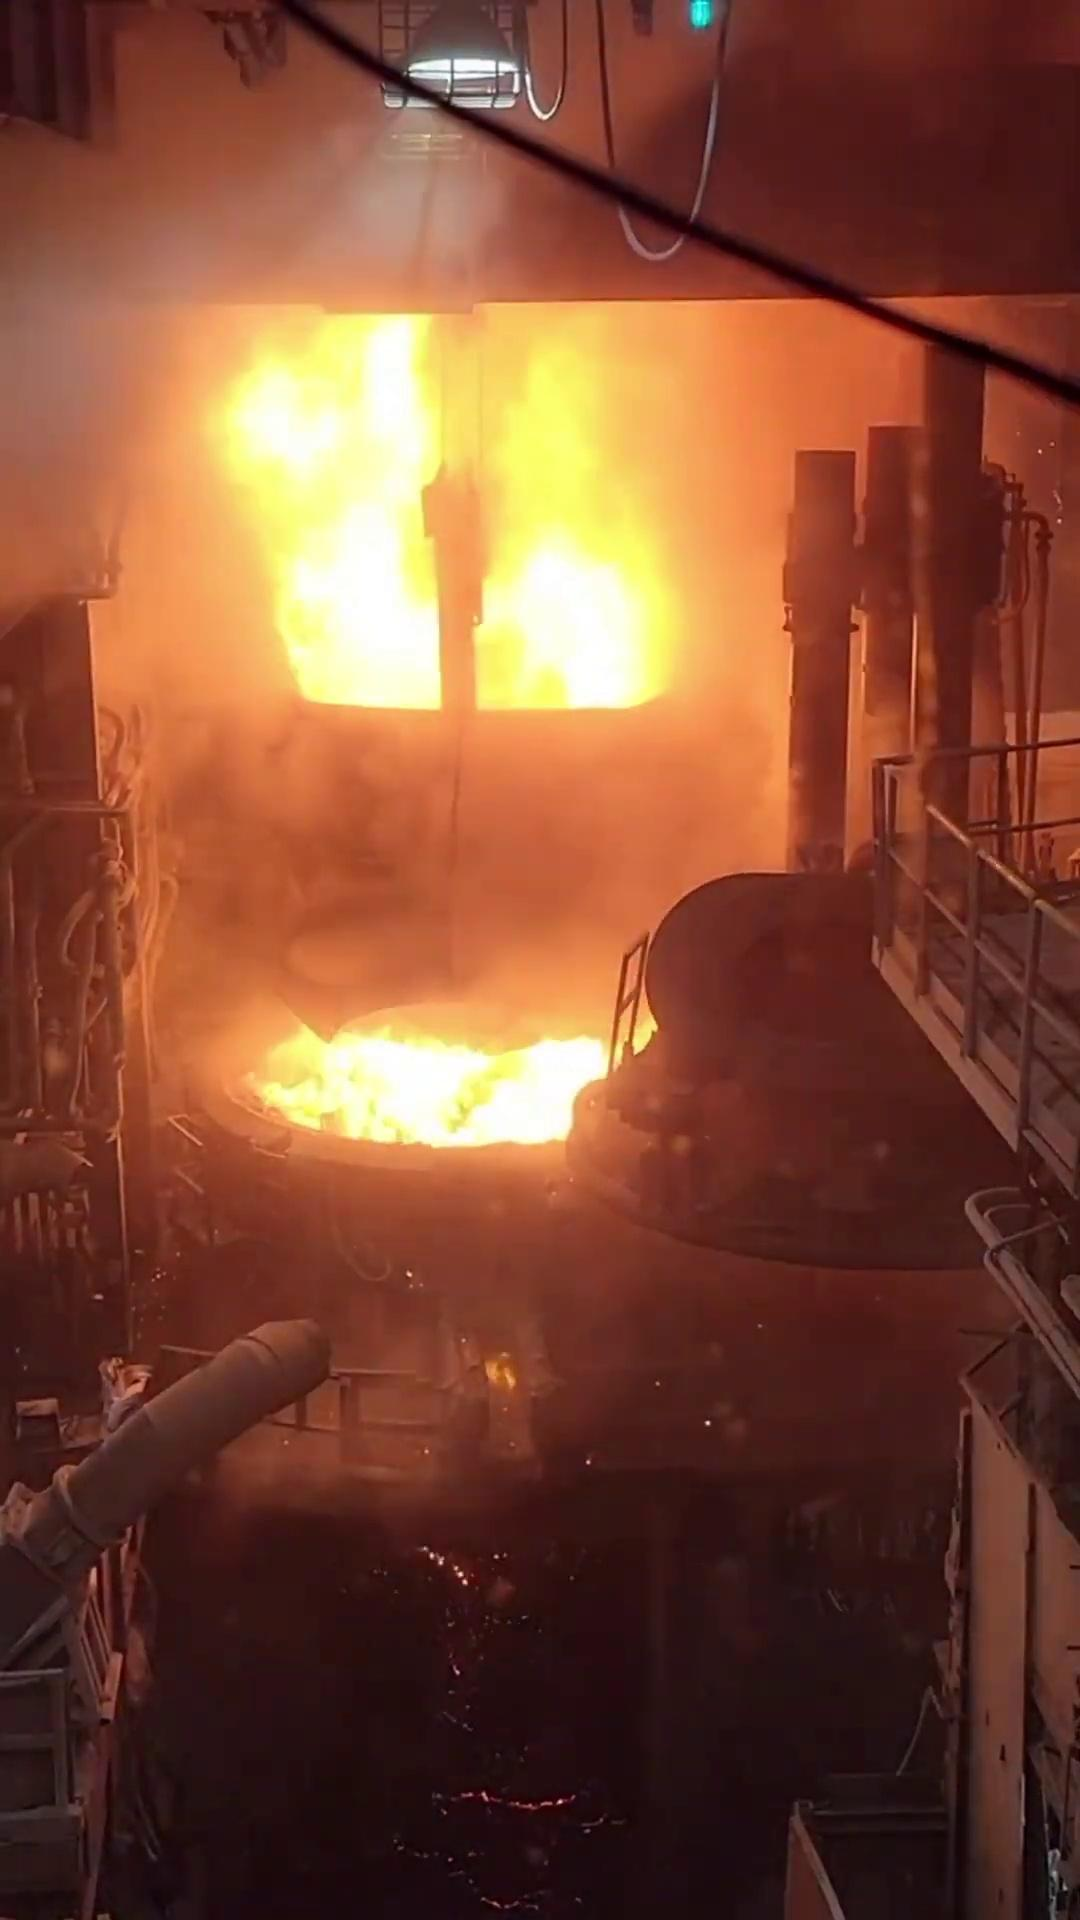fire: (108, 193, 866, 1218)
